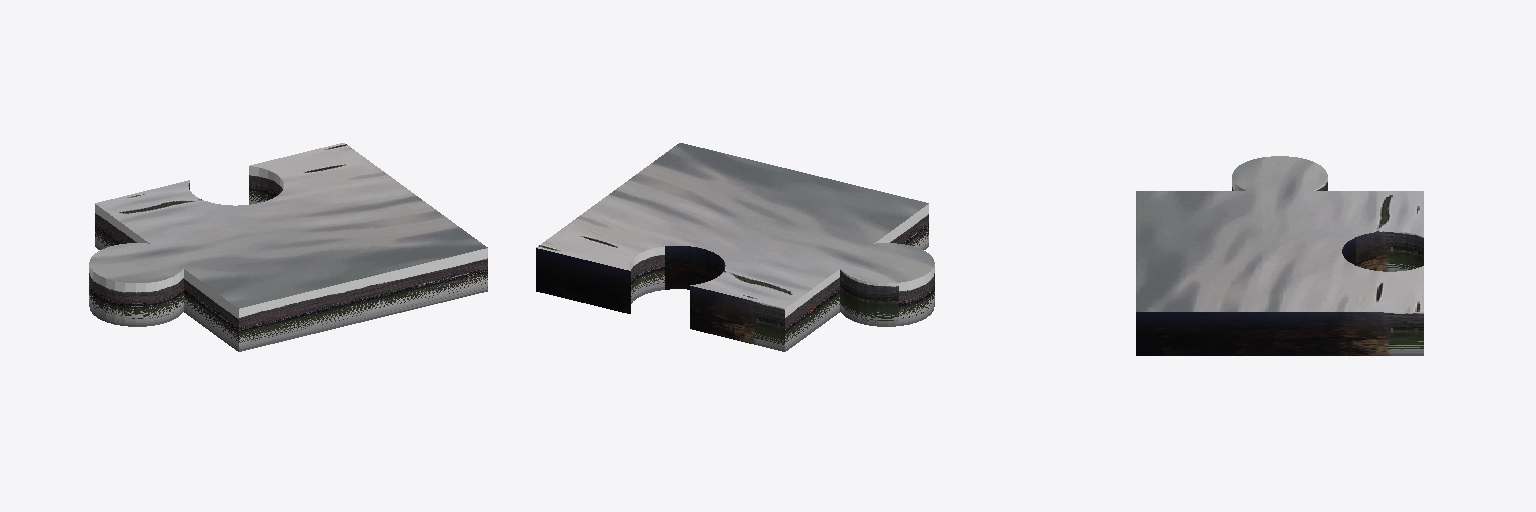
The picture shows the model from 3 angles: view 1: azimuth 30°, elevation 25°; view 2: azimuth 150°, elevation 25°; view 3: azimuth 270°, elevation 25°; orthographic projection.
Visible parts, largest first — view 1: ͼ��025; view 2: ͼ��025; view 3: ͼ��025.
Boxes of the visible parts, x1,y1,x2,y2 form: ͼ��025: [89, 143, 487, 351]; ͼ��025: [536, 143, 934, 351]; ͼ��025: [1136, 156, 1423, 355].
Bounding box in the file's own units: 38.5 × 5 × 30.
Materials: 1 (1 with a texture image).